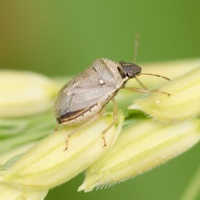insect: (54, 58, 143, 147)
